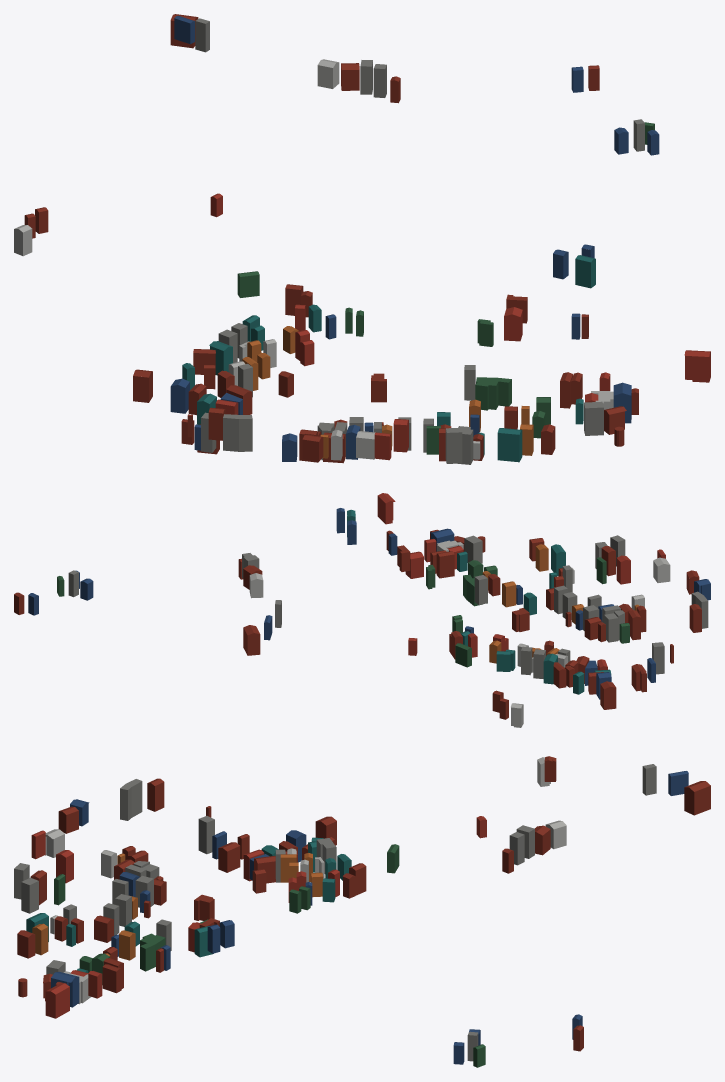
The model's file is near-16-54713-29734.1d911997.glb.
3 renders of one model, top to bottom at view 1: azimuth 30°, elevation 25°; view 2: azimuth 150°, elevation 25°; view 3: azimuth 270°, elevation 25°, orthographic. The views are drawn at different scales.
Size of the model in its own units: 515 by 171 by 534.
